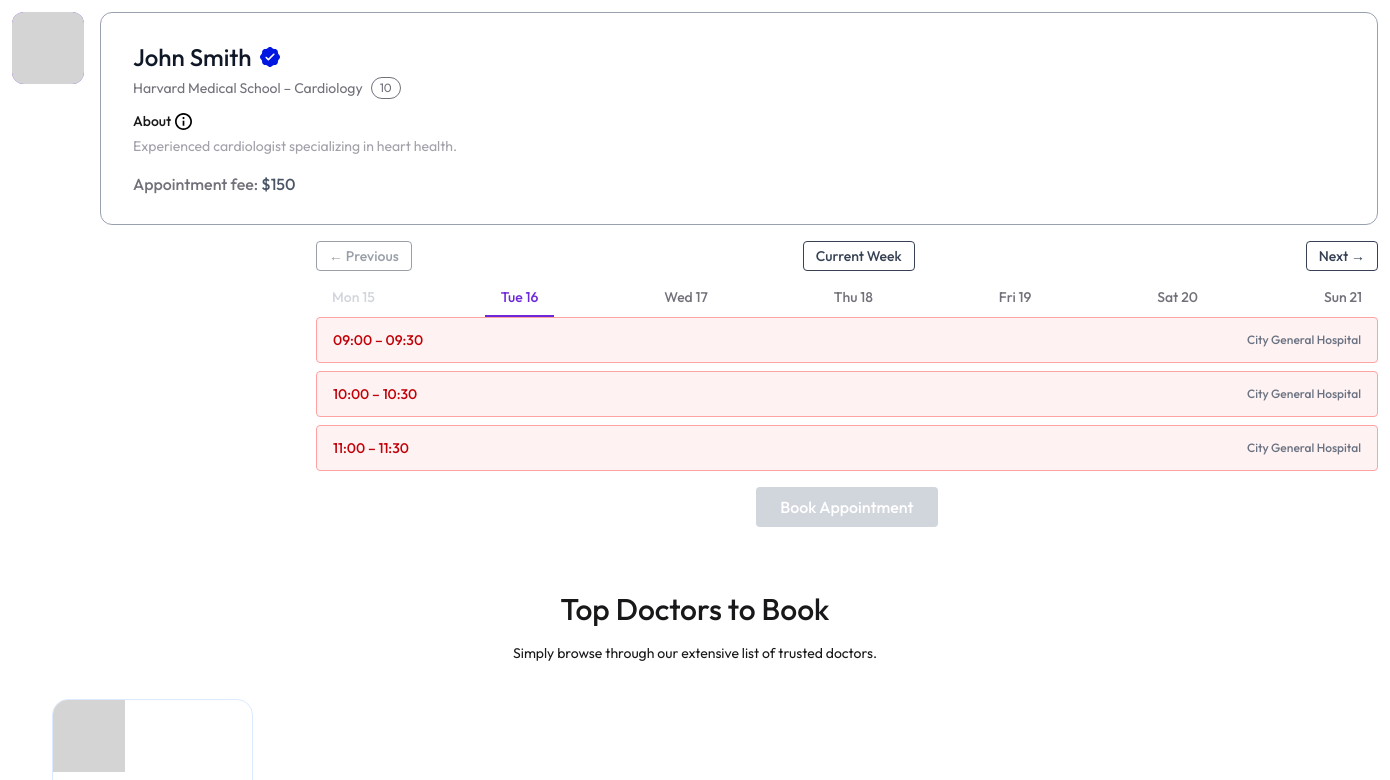
it: Appointment Booking Flow › should display available slots for selected date
Check: the text "John Smith" is shown, box left=133, top=42, right=280, bottom=72
Check: the text "$150" is shown, box left=261, top=174, right=296, bottom=194
Step 1. Click the button "Wed 17" → (686, 298), box left=648, top=279, right=724, bottom=317
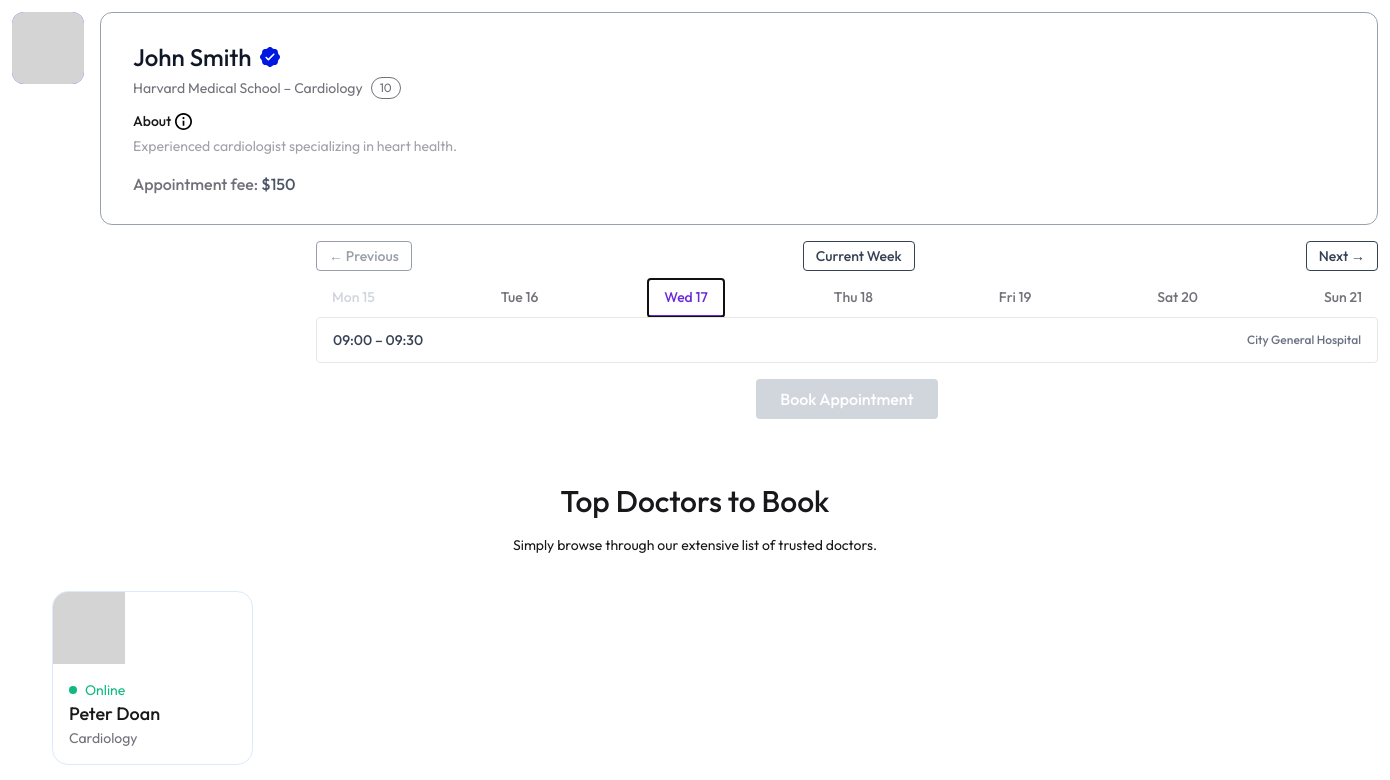
Check: the text "09:00 – 09:30" is shown, box left=333, top=330, right=423, bottom=350
Check: the button "09:00 – 09:30 City General Hospital" is enabled, box left=316, top=317, right=1378, bottom=363
Check: the button "11:00 – 11:30" is gone
